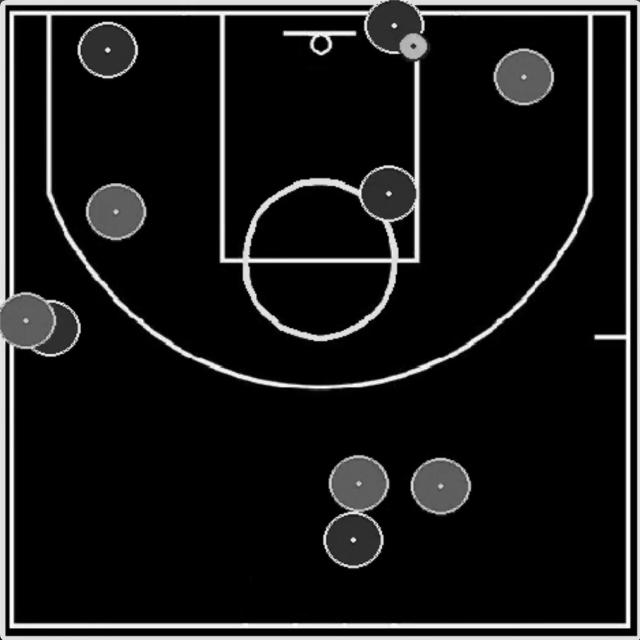Basketball: (399, 33, 430, 61)
Team_A: (78, 21, 138, 79), (323, 511, 383, 569), (359, 165, 418, 223), (364, 0, 423, 57), (26, 302, 84, 359)
Team_B: (494, 49, 554, 106), (411, 458, 471, 515), (86, 184, 146, 240), (328, 455, 388, 511), (0, 292, 54, 348)
